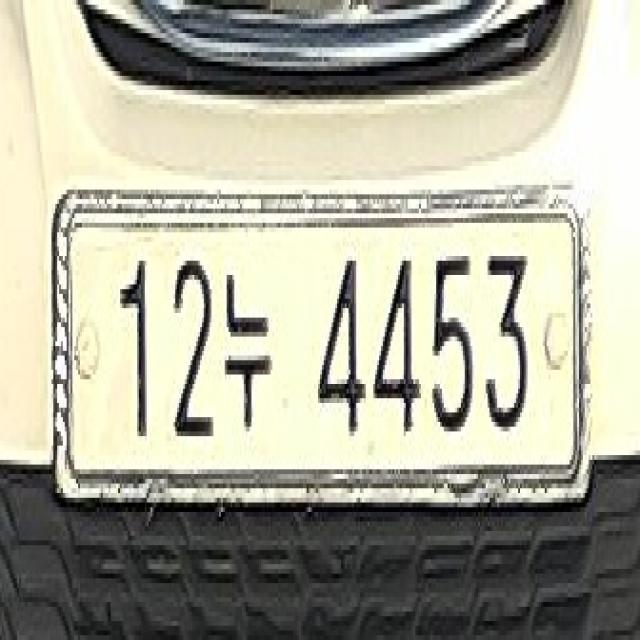1: (118, 256, 158, 438)
2: (171, 254, 219, 442)
3: (482, 238, 532, 447)
4: (317, 242, 367, 449), (373, 248, 423, 447)
5: (432, 252, 474, 442)
license_plate: (44, 184, 596, 511)
nu: (223, 259, 273, 442)
